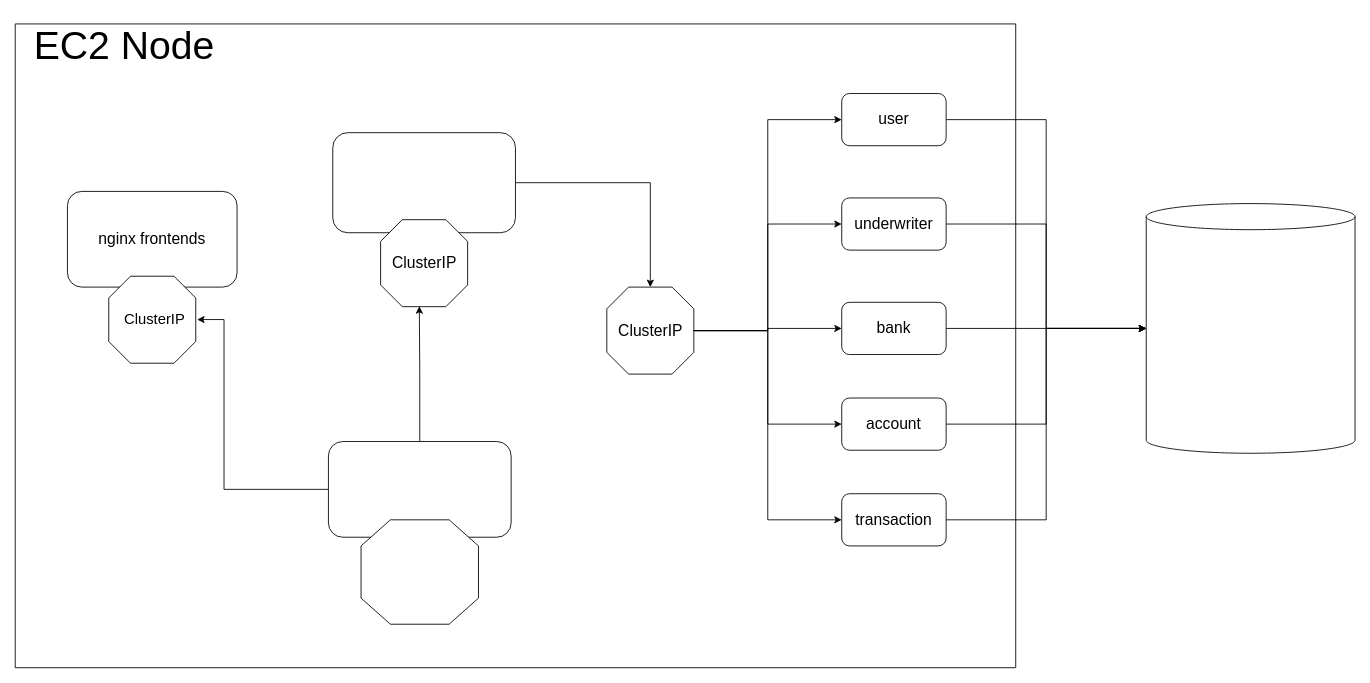
The diagram is 1370 pixels wide and 683 high, and some of its shapes have lost their labels. Each missing label, with the centre of its shape:
"gateway" belongs at (423,182).
"LoadBalancer" belongs at (419,571).
"nginx Ingress Controller" belongs at (419,489).
"RDS" belongs at (1250,328).
